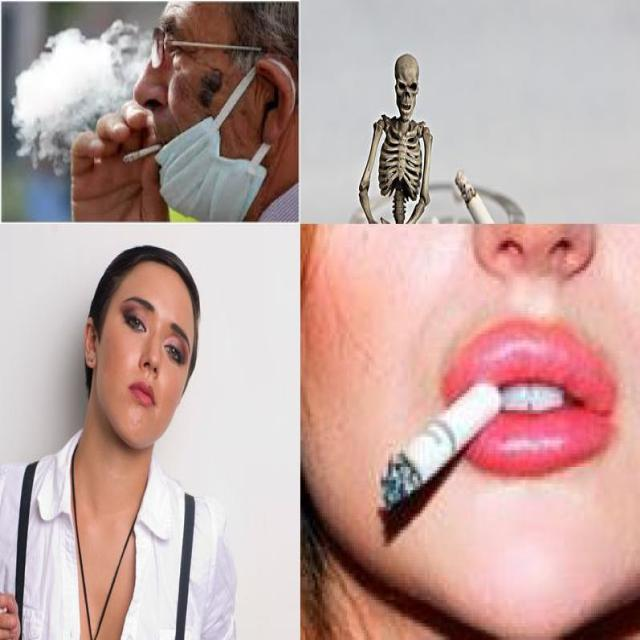smoking: (380, 382, 502, 507), (454, 168, 559, 223), (122, 142, 164, 164), (0, 604, 8, 620)
